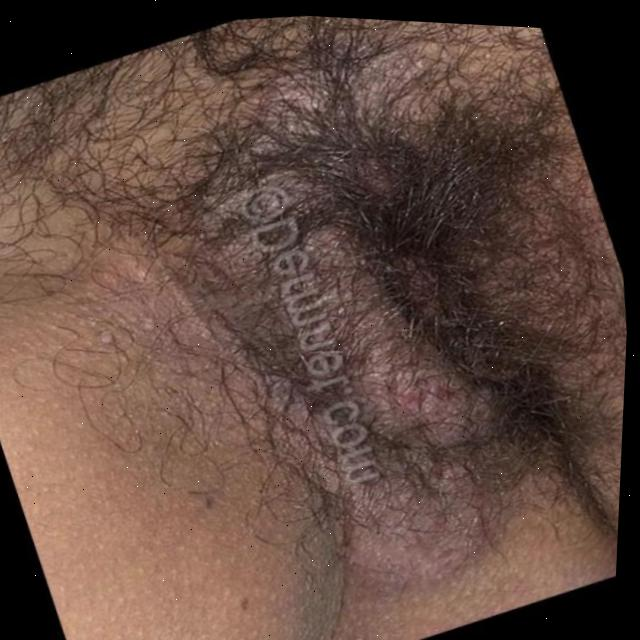Eczema: (254, 90, 568, 608)
